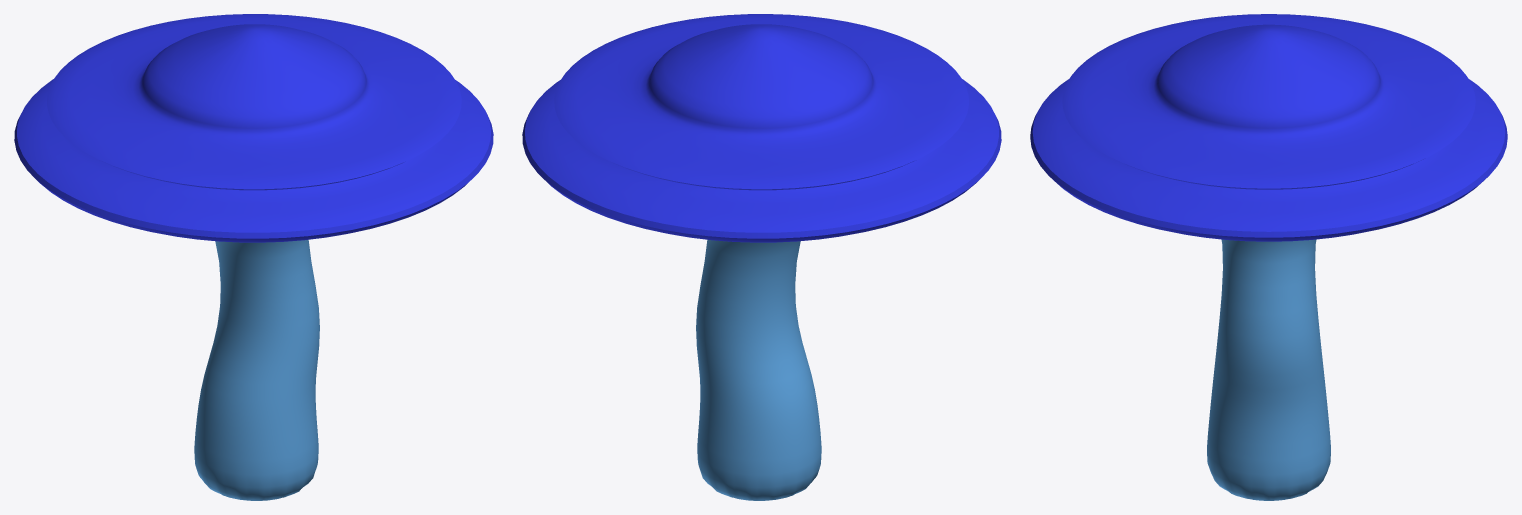
File: mushroom 1.fbx
3 views of the same model, side by side, from view 1: azimuth 30°, elevation 25°; view 2: azimuth 150°, elevation 25°; view 3: azimuth 270°, elevation 25° (orthographic).
Visible parts, largest first — view 1: Cylinder.002; view 2: Cylinder.002; view 3: Cylinder.002.
Part boxes in pixels (x1,y1,x2,y2): Cylinder.002: (14,14,493,500); Cylinder.002: (522,14,1001,500); Cylinder.002: (1030,14,1507,500).
Size of the model in its own units: 192 by 204 by 192.
